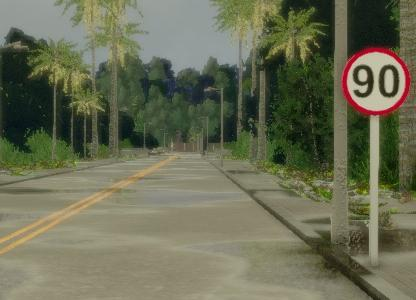Speed_90: (343, 42, 408, 115)
